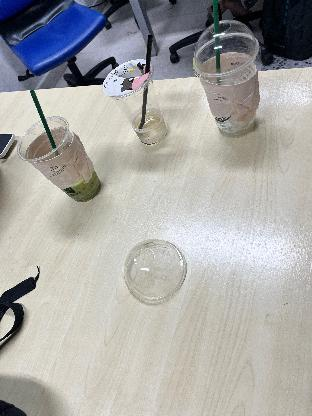Others: (17, 120, 107, 202), (195, 35, 263, 137), (98, 66, 172, 150), (118, 233, 192, 312), (185, 17, 259, 79), (25, 82, 61, 144), (204, 0, 228, 82), (141, 32, 155, 126)
